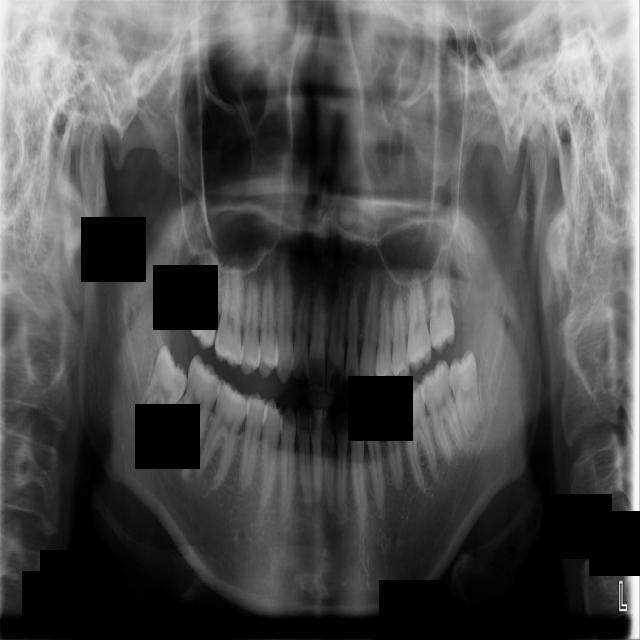73: (606, 582, 610, 592)
BioHorizons Implant: (427, 239, 456, 353)
Biomet 3i Implant: (446, 348, 486, 442)
Blue Sky Bio Implant: (414, 357, 470, 465)
Caries: (189, 245, 221, 351)
Implant: (170, 353, 227, 464)
Keystone Dental Implant: (129, 344, 198, 441)
